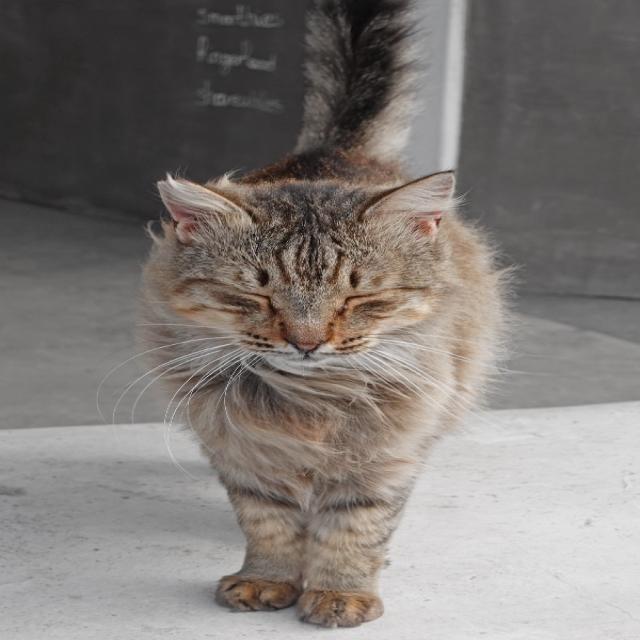cat: (141, 0, 506, 626)
